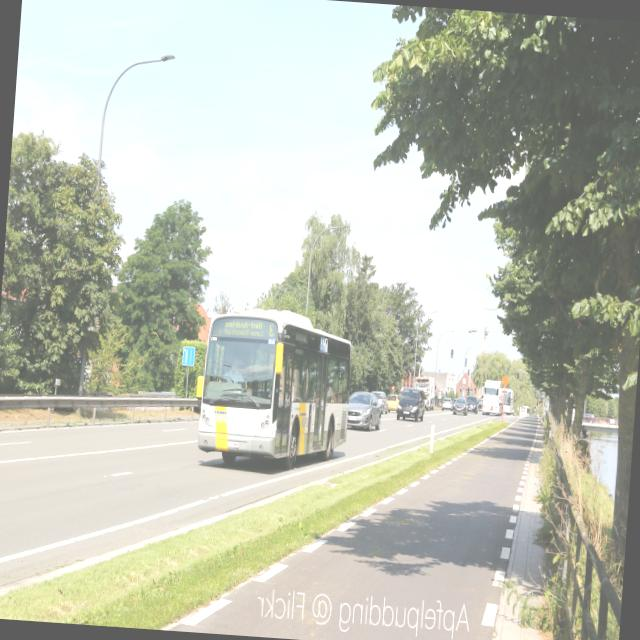bus-number: (268, 322, 274, 338)
